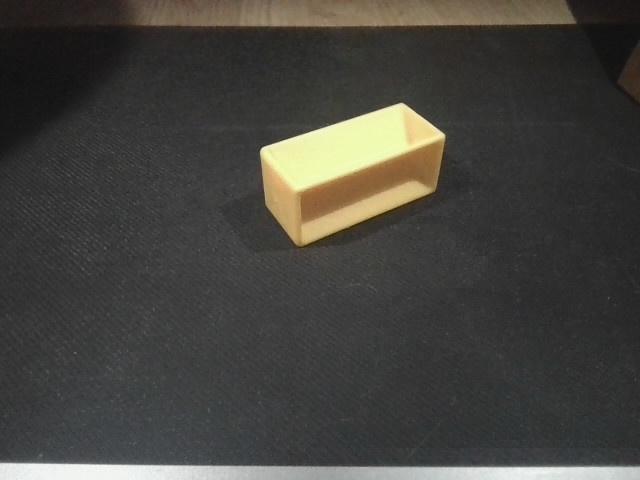YellowSample: (250, 103, 453, 249)
